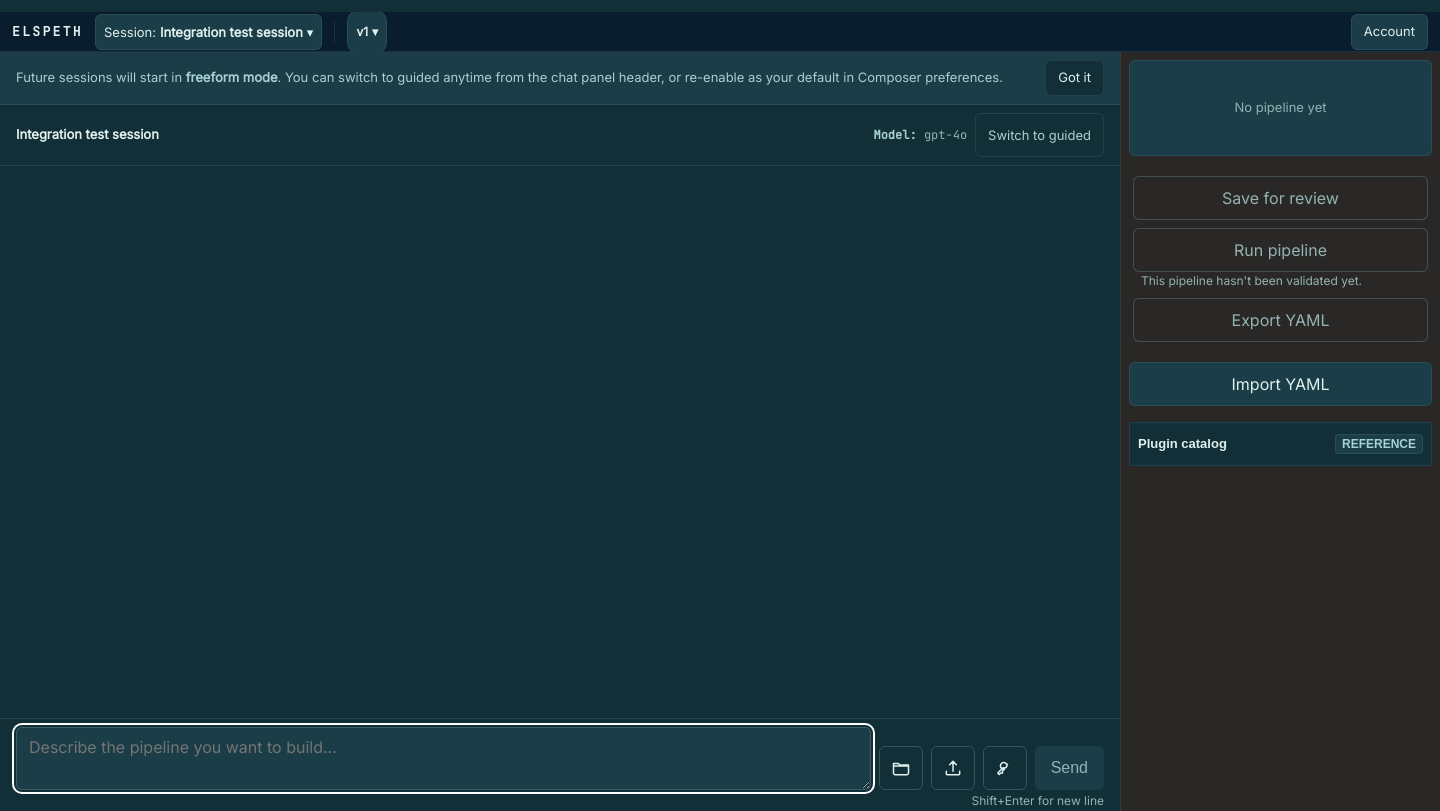
Test case: Phase 5a Task 6 — chat input → set_pipeline → inline-source widget › verbatim path — user types a URL, set_pipeline returns inline_blob, widget renders WITHOUT Edit button
The width and height of the screenshot is (1440, 811).
Type "go to https://finance.gov.au" into the text box named "Message input".
click(443, 759); type("go to https://finance.gov.au")  # box [16,727,871,790]
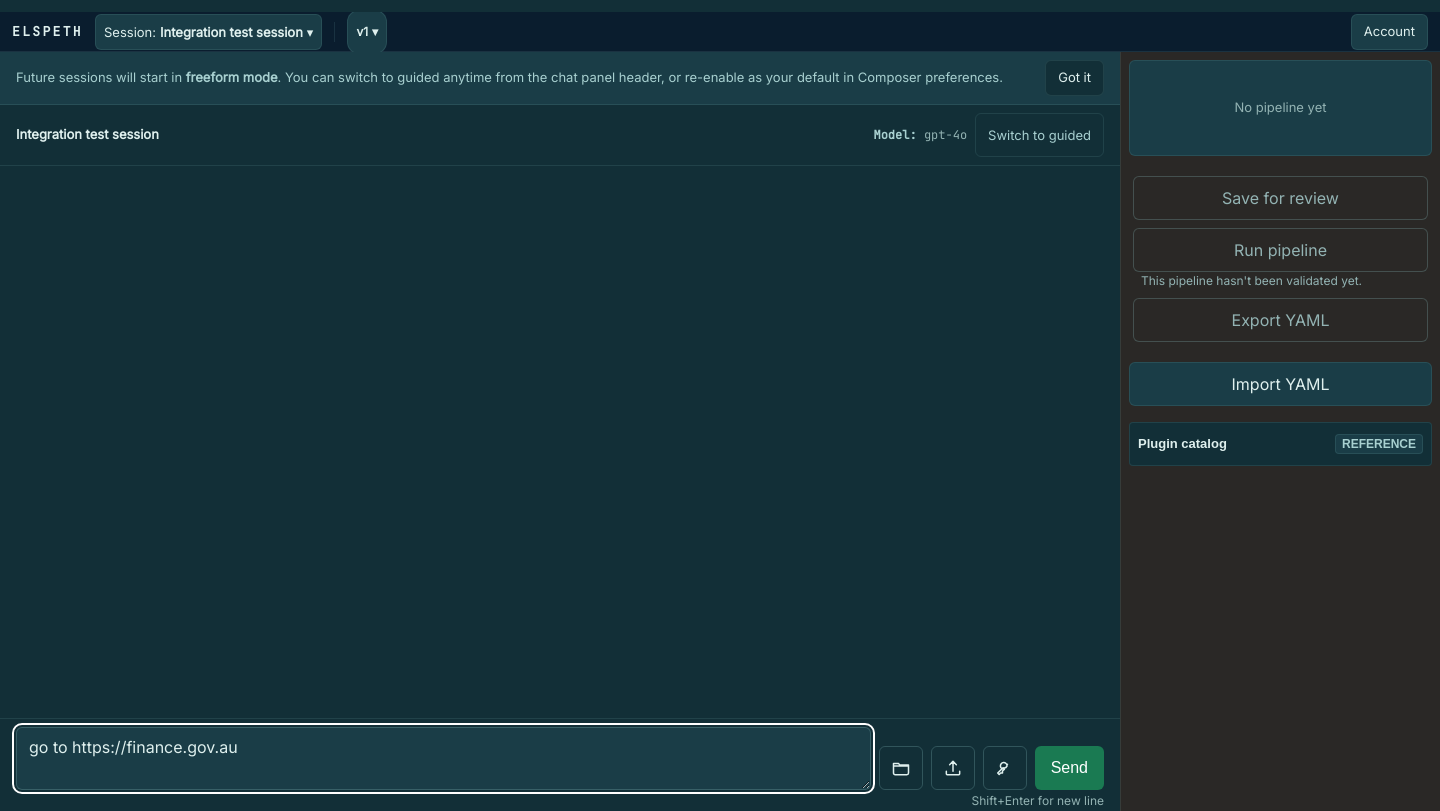
Click the button with aria-label "send message".
click(1069, 768)  # box [1035,746,1104,790]
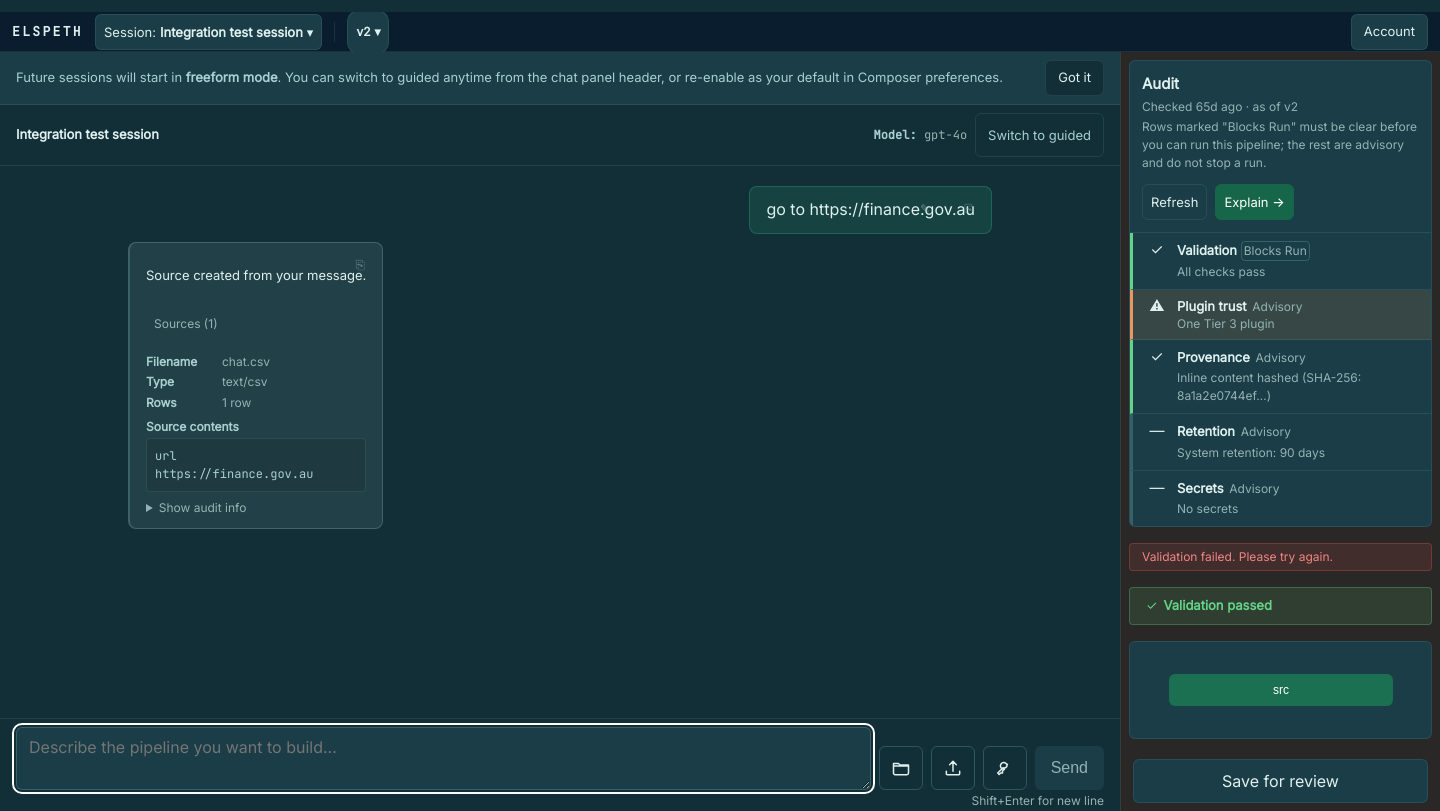
Expected: the element named "source created from your message" is shown, [146,350,366,516]
Expected: the text "chat.csv" is shown, [222,354,270,369]
Expected: the text "text/csv" is shown, [222,374,268,389]
